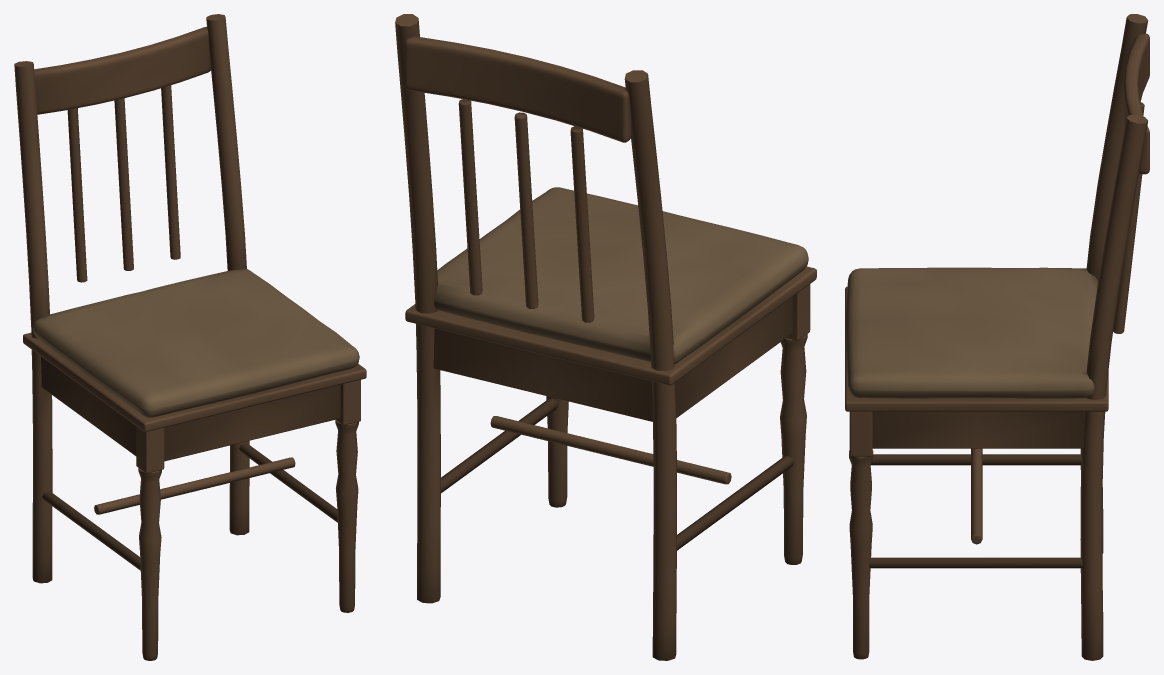
The model's file is dining_chair.glb.
3 views of the same model, side by side, from view 1: azimuth 30°, elevation 25°; view 2: azimuth 150°, elevation 25°; view 3: azimuth 270°, elevation 25° (orthographic). The views are drawn at different scales.
Visible parts, largest first — view 1: dining_chair; view 2: dining_chair; view 3: dining_chair.
Boxes of the visible parts, x1=… form: dining_chair: x1=14, y1=14, x2=366, y2=660; dining_chair: x1=395, y1=14, x2=816, y2=660; dining_chair: x1=845, y1=14, x2=1149, y2=660.
Bounding box in the file's own units: 0.4302 × 0.9226 × 0.4741.
